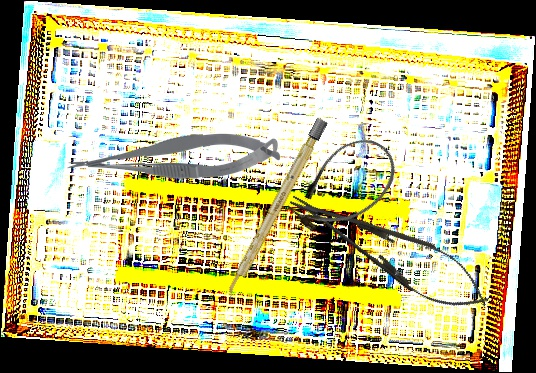Cannula: (278, 125, 410, 248)
Micro Scissor: (66, 129, 282, 182)
Needle Holder: (279, 174, 500, 326)
Scalpel Handle: (222, 116, 329, 302)
